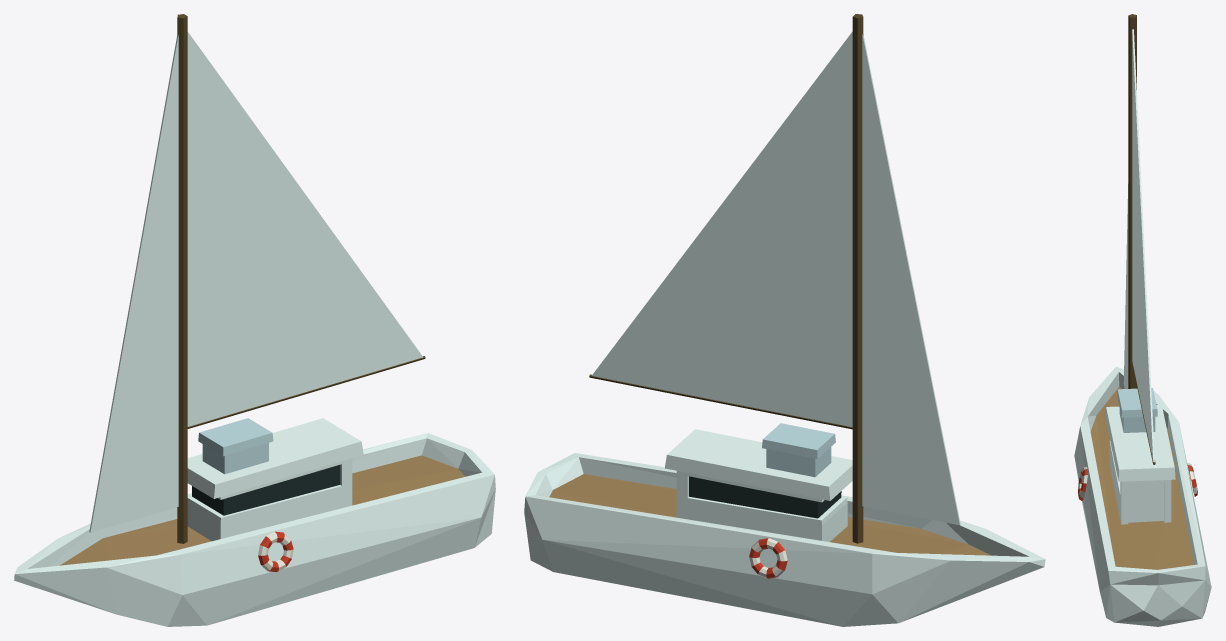
The model's file is Yacht_A.fbx.
3 renders of one model, left to right at view 1: azimuth 30°, elevation 25°; view 2: azimuth 150°, elevation 25°; view 3: azimuth 270°, elevation 25°, orthographic. The views are drawn at different scales.
Parts seen in each view (by area): view 1: Yacht_A; view 2: Yacht_A; view 3: Yacht_A.
Part boxes in pixels (x1,y1,x2,y2): Yacht_A: [14, 14, 495, 626]; Yacht_A: [524, 14, 1045, 626]; Yacht_A: [1074, 14, 1211, 626].
Bounding box in the file's own units: 685 × 799 × 201.
